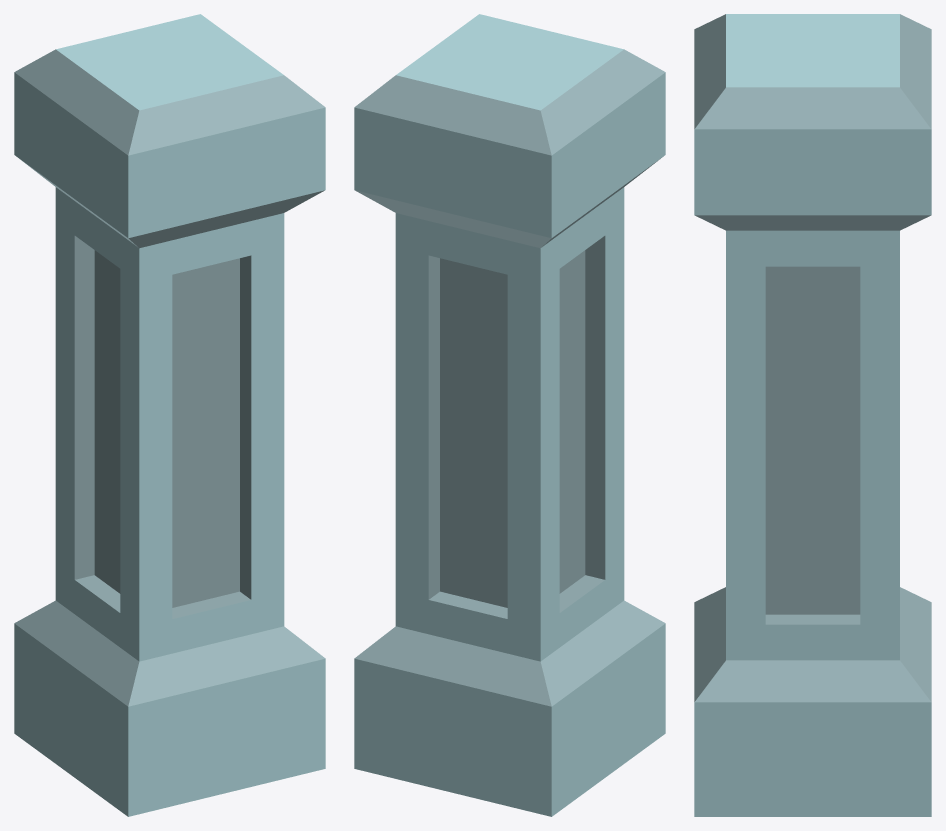
File: statue_column.dae
3 renders of one model, left to right at view 1: azimuth 30°, elevation 25°; view 2: azimuth 150°, elevation 25°; view 3: azimuth 270°, elevation 25°, orthographic. The views are drawn at different scales.
Parts seen in each view (by area): view 1: statue_column; view 2: statue_column; view 3: statue_column.
Boxes of the visible parts, left/top/right/bottom form: statue_column: left=14, top=14, right=325, bottom=816; statue_column: left=354, top=14, right=665, bottom=816; statue_column: left=694, top=14, right=931, bottom=816.
Size of the model in its own units: 0.3 by 1 by 0.3.
